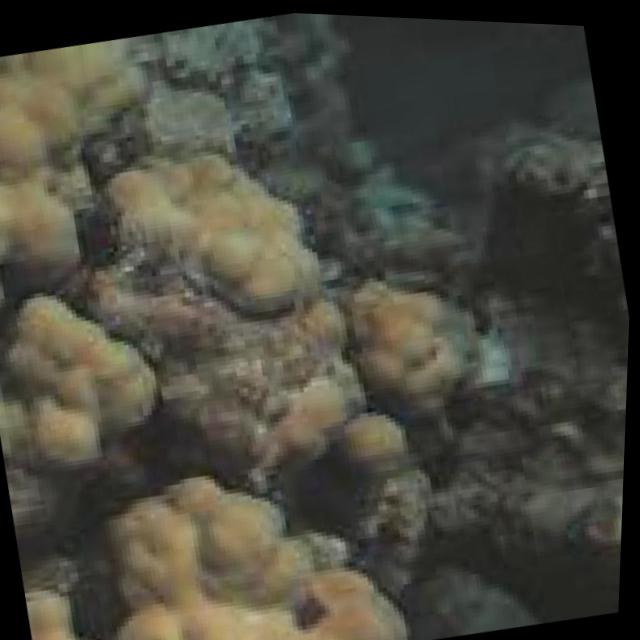Healthy Coral: (82, 438, 387, 640), (107, 130, 340, 371), (0, 32, 167, 305), (0, 283, 194, 470), (359, 248, 501, 429), (32, 582, 113, 640)
